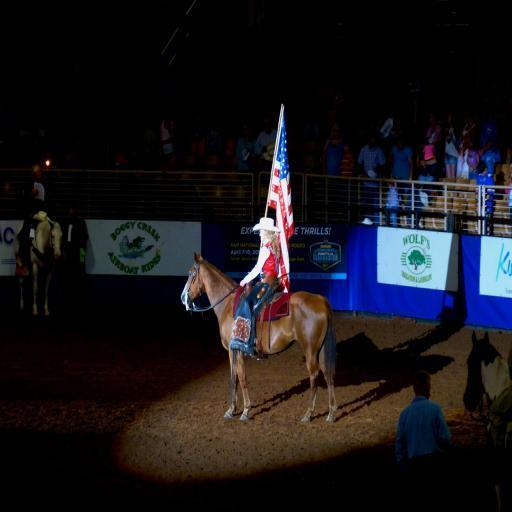horse: (178, 250, 340, 424), (462, 327, 512, 512), (11, 216, 64, 317)
